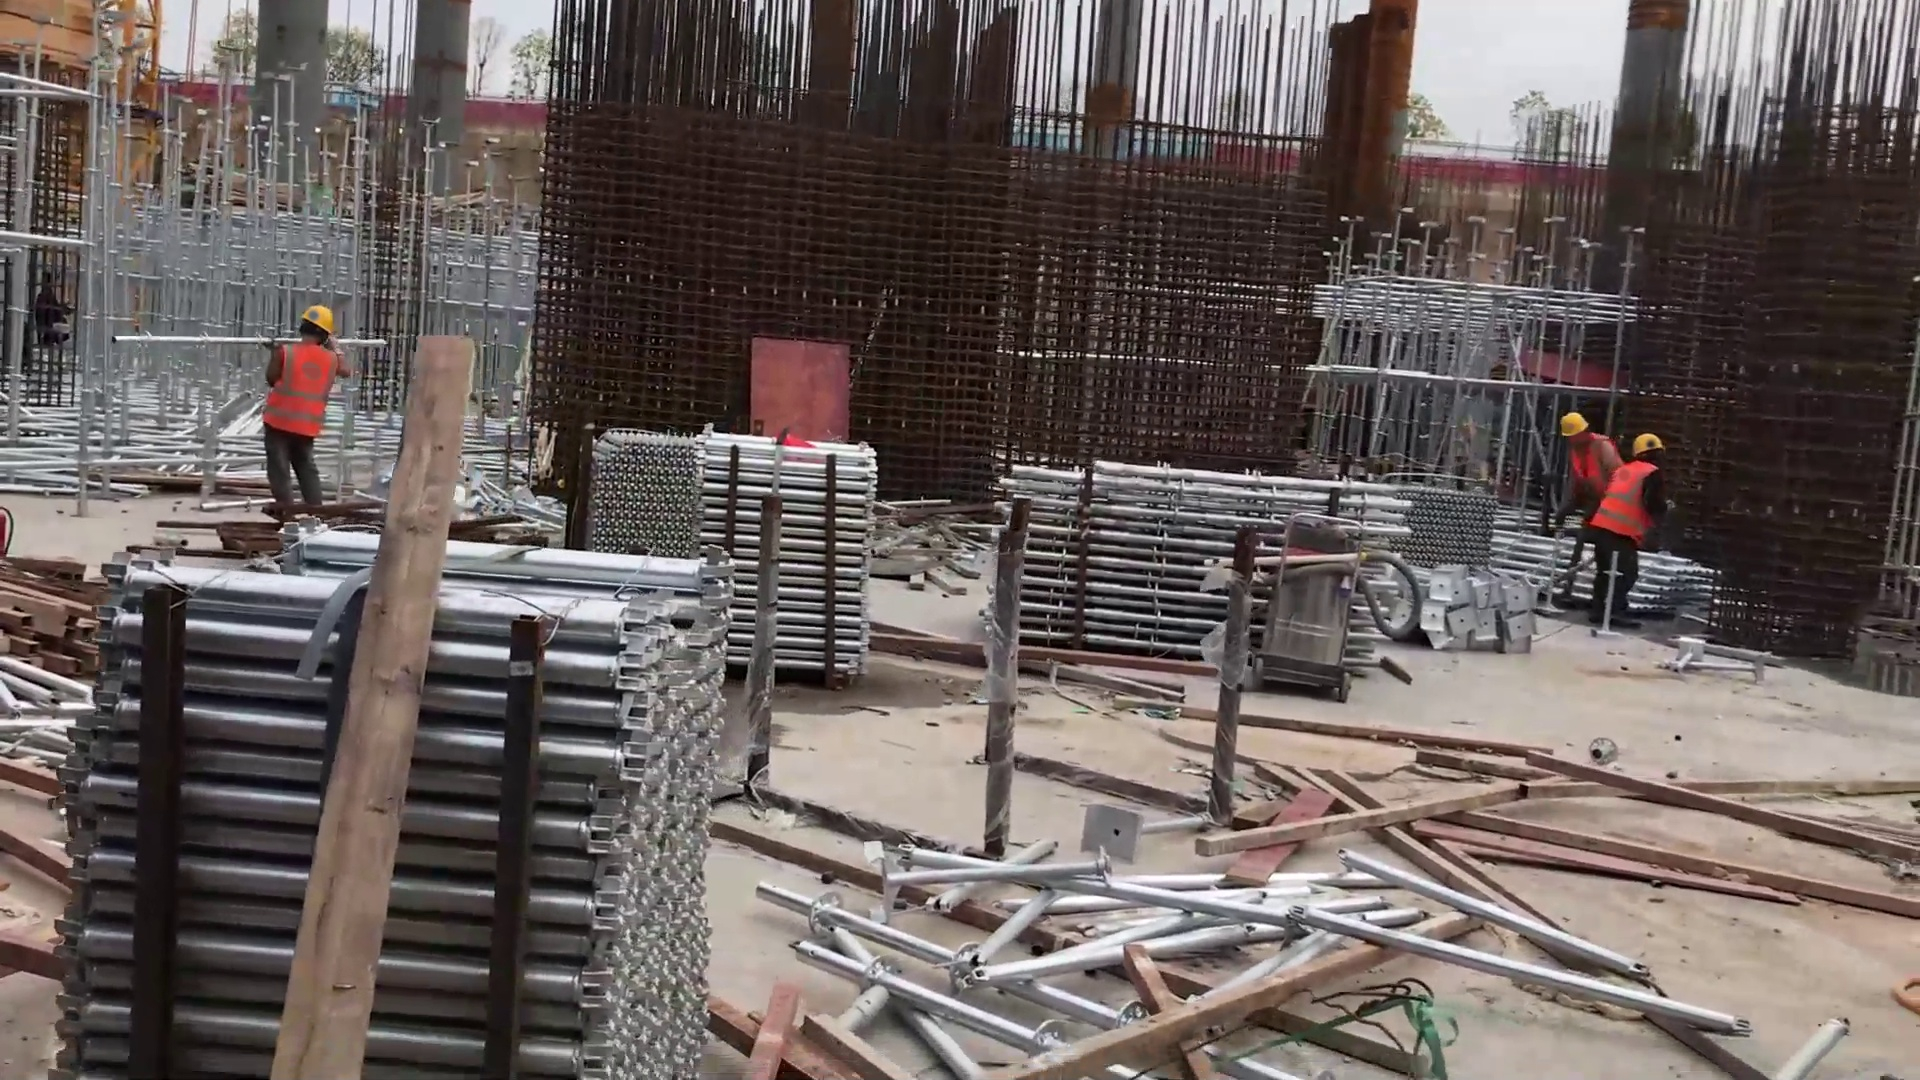board: (1, 1, 111, 75)
fence: (153, 73, 1811, 228)
helmet: (297, 299, 338, 332), (1629, 430, 1665, 457), (1560, 407, 1590, 434)
person: (257, 297, 342, 518), (1585, 428, 1667, 626), (1548, 408, 1629, 508)
scaffold: (79, 542, 718, 1069), (983, 467, 1410, 683), (699, 425, 876, 695), (588, 429, 705, 562), (1514, 542, 1709, 611), (1397, 474, 1505, 586)
slogan: (941, 124, 1235, 163), (321, 83, 379, 110)
vest: (267, 336, 332, 447), (1592, 460, 1660, 540), (1567, 434, 1625, 487)
